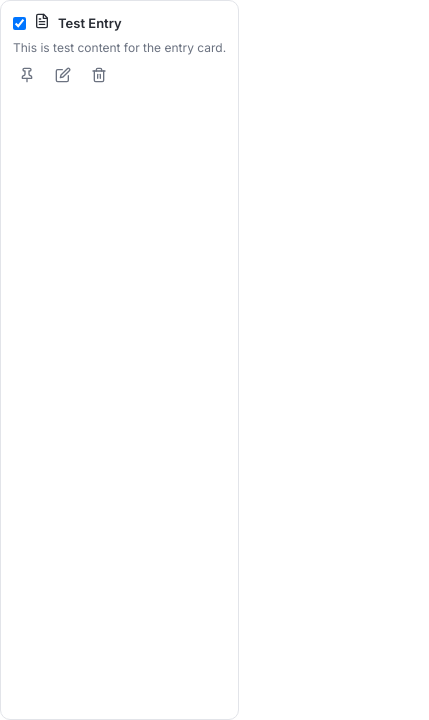
KnowledgeBankEntryCard › switches to editor when edit is clicked
Click the button named "Edit entry".
click(63, 76)  # box [49, 65, 77, 88]
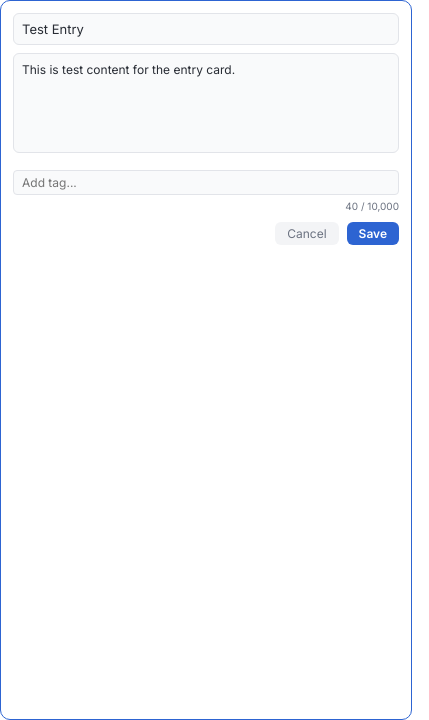
Now the 1st field holds "Test Entry", box [13, 13, 399, 45]
